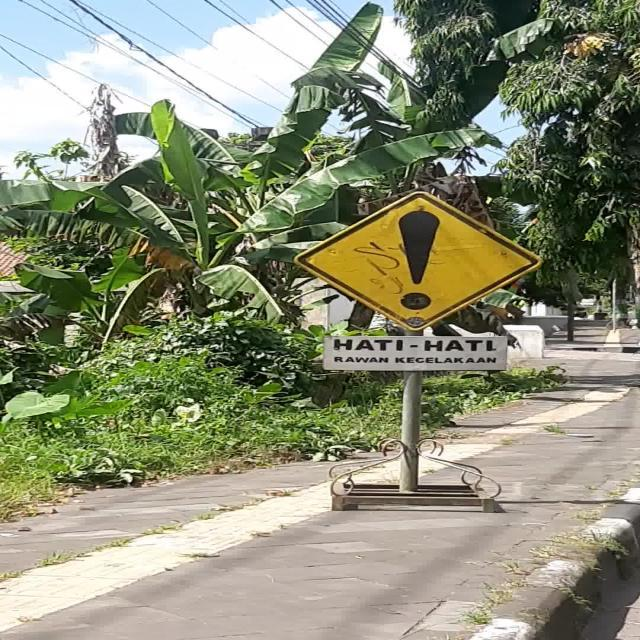Hati-Hati: (293, 191, 541, 331)
